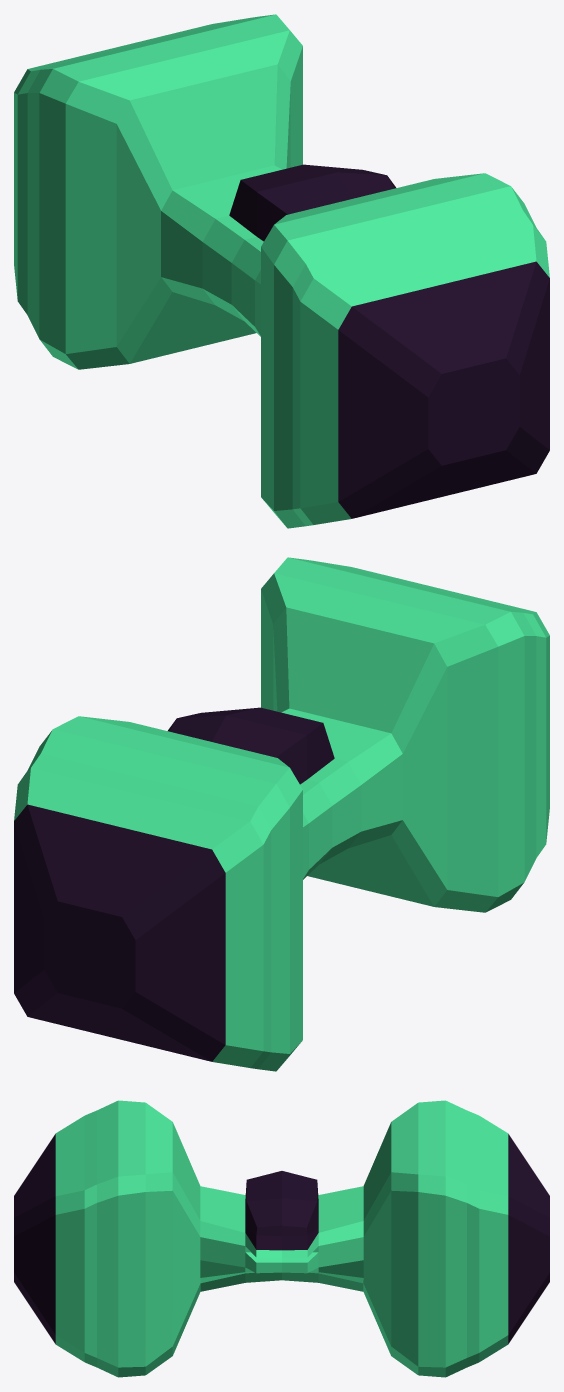
Rendered from tradeship.fbx.
3 views of the same model, one above another, from view 1: azimuth 30°, elevation 25°; view 2: azimuth 150°, elevation 25°; view 3: azimuth 270°, elevation 25° (orthographic). The views are drawn at different scales.
Parts seen in each view (by area): view 1: Cube; view 2: Cube; view 3: Cube.
Boxes of the visible parts, left/top/right/bottom form: Cube: left=14, top=14, right=549, bottom=528; Cube: left=14, top=557, right=549, bottom=1071; Cube: left=14, top=1100, right=549, bottom=1377.
Size of the model in its own units: 167 by 183 by 443.
